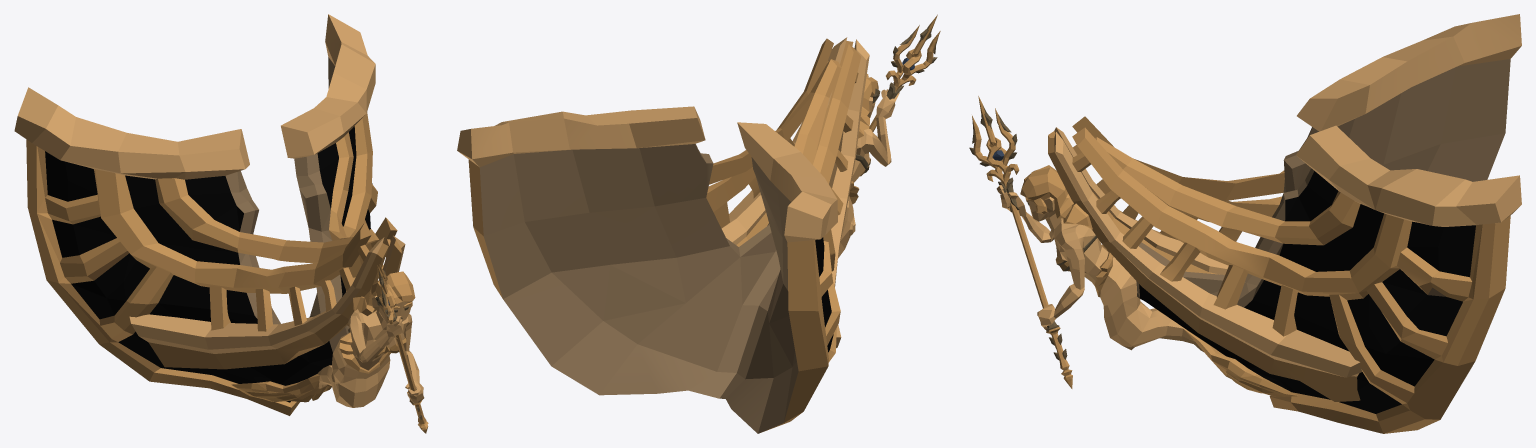
File: SM_Veh_Ship_M_Figurehead_02.fbx
3 views of the same model, side by side, from view 1: azimuth 30°, elevation 25°; view 2: azimuth 150°, elevation 25°; view 3: azimuth 270°, elevation 25° (orthographic). The views are drawn at different scales.
Parts seen in each view (by area): view 1: SM_Veh_Ship_M_Figurehead_02; view 2: SM_Veh_Ship_M_Figurehead_02; view 3: SM_Veh_Ship_M_Figurehead_02.
Part boxes in pixels (x1=…): SM_Veh_Ship_M_Figurehead_02: x1=14, y1=14, x2=428, y2=433; SM_Veh_Ship_M_Figurehead_02: x1=457, y1=14, x2=940, y2=433; SM_Veh_Ship_M_Figurehead_02: x1=969, y1=14, x2=1521, y2=433.
Size of the model in its own units: 560 by 441 by 707.
